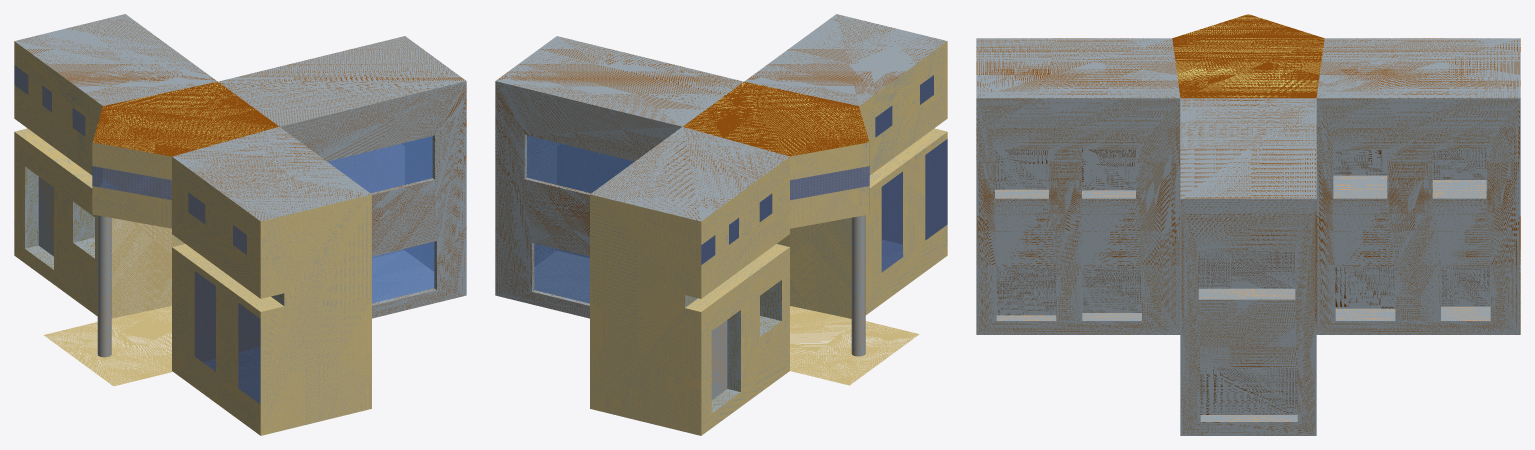
Rendered from tifac core.fbx.
The picture shows the model from 3 angles, left to right: view 1: azimuth 30°, elevation 25°; view 2: azimuth 150°, elevation 25°; view 3: azimuth 270°, elevation 25°; orthographic projection. The views are drawn at different scales.
Parts seen in each view (by area): view 1: Model; view 2: Model; view 3: Model.
Boxes of the visible parts, x1=… form: Model: x1=14, y1=14, x2=466, y2=435; Model: x1=495, y1=14, x2=947, y2=435; Model: x1=976, y1=14, x2=1520, y2=435.
Size of the model in its own units: 8879 by 5082 by 10589.
